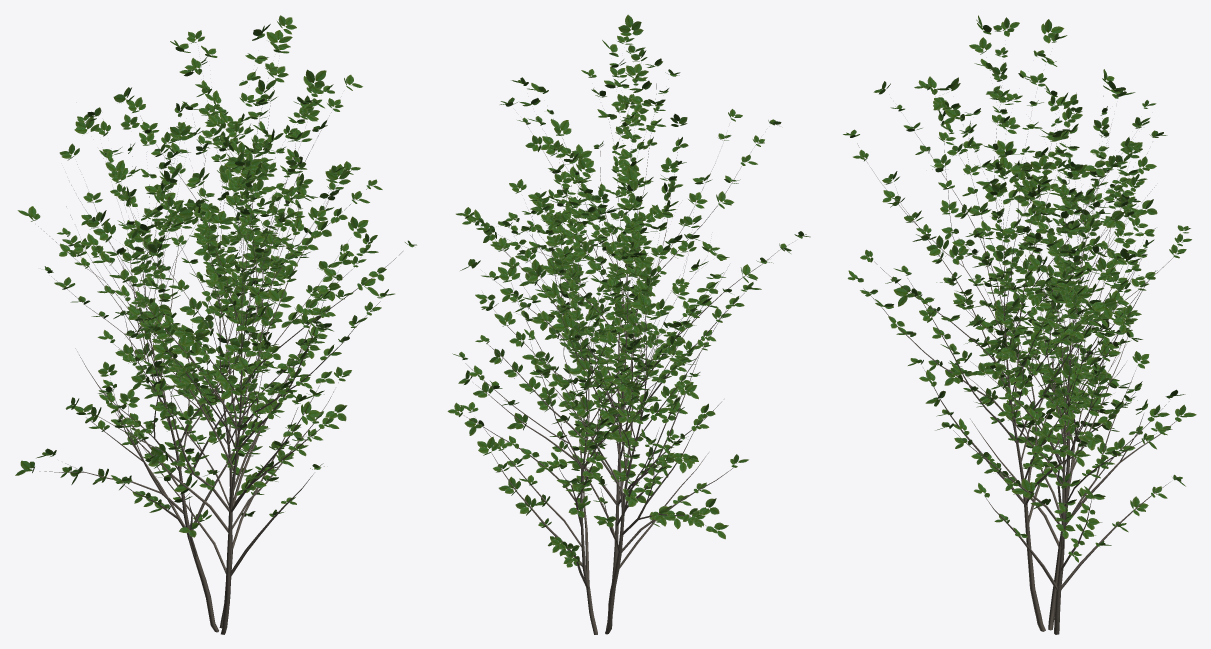
File: sharanoki_nocolor.fbx
3 views of the same model, side by side, from view 1: azimuth 30°, elevation 25°; view 2: azimuth 150°, elevation 25°; view 3: azimuth 270°, elevation 25° (orthographic). The views are drawn at different scales.
Parts seen in each view (by area): view 1: Tree, Tree.002, Tree.001; view 2: Tree.002, Tree, Tree.001; view 3: Tree, Tree.001, Tree.002.
Part boxes in pixels (x1,y1,x2,y2): Tree: [79, 78, 402, 634]; Tree.002: [38, 117, 269, 632]; Tree.001: [114, 157, 338, 628]; Tree.002: [535, 203, 733, 634]; Tree: [475, 83, 792, 629]; Tree.001: [463, 185, 683, 634]; Tree: [857, 52, 1133, 631]; Tree.001: [953, 180, 1169, 634]; Tree.002: [970, 96, 1182, 630].
Size of the model in its own units: 157 by 298 by 155.
2 materials, 2 textured.
